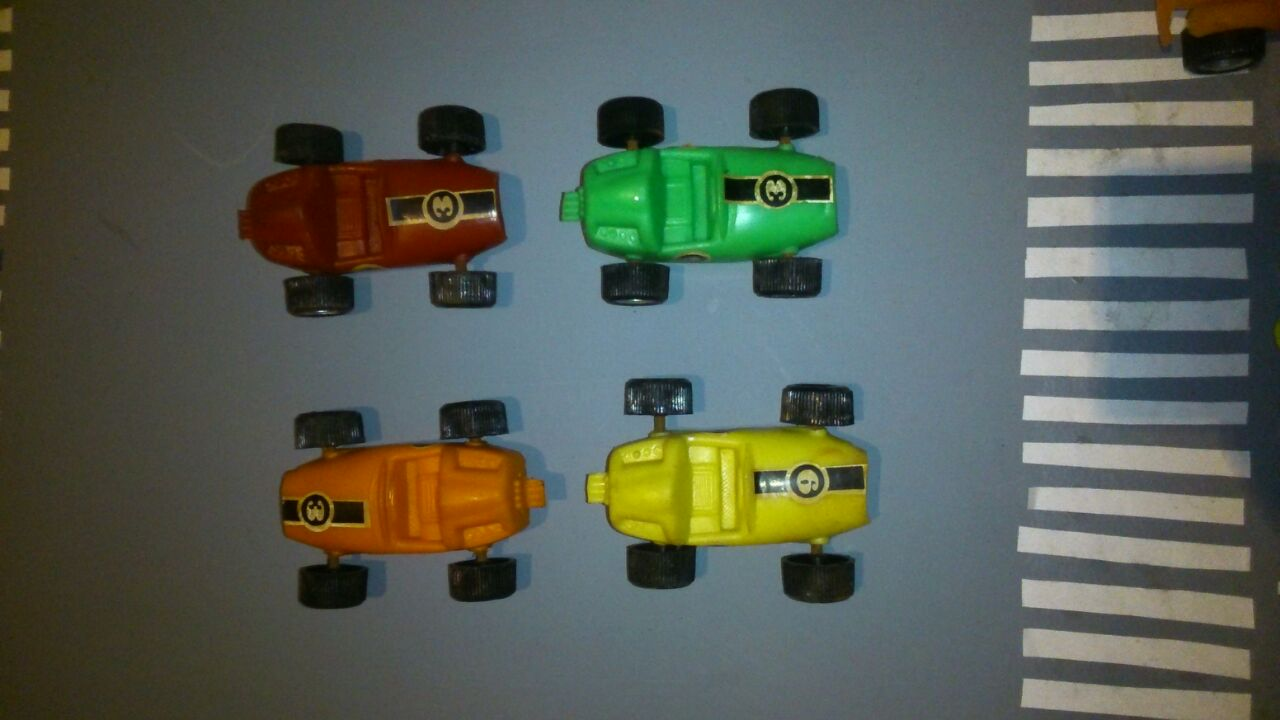amarillo: (585, 384, 872, 593)
naranja: (272, 407, 548, 597)
rojo: (240, 115, 509, 311)
verde: (566, 86, 836, 303)
